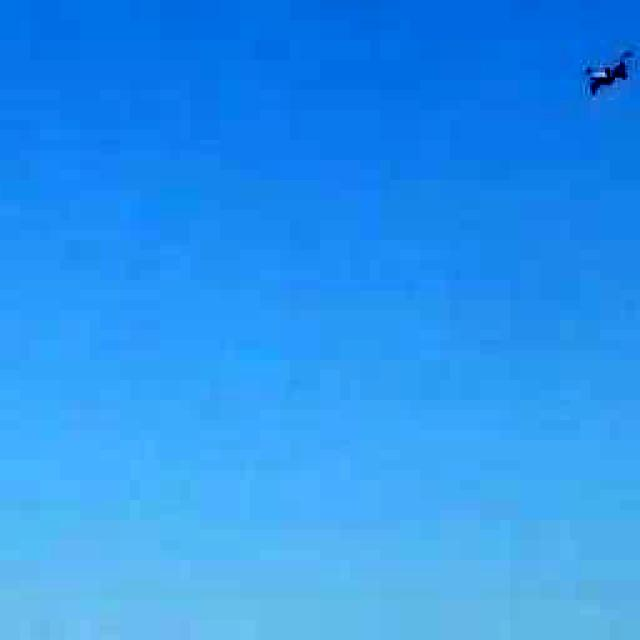bird: (546, 19, 640, 116)
